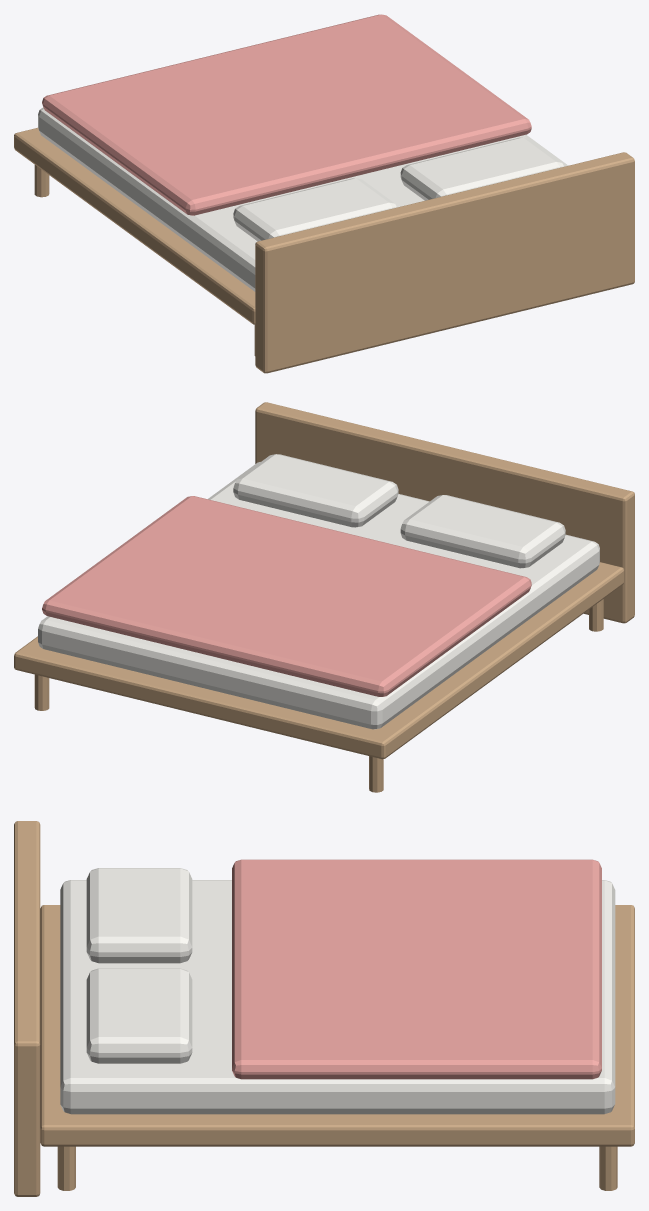
The model's file is bed.glb.
The picture shows the model from 3 angles, top to bottom: view 1: azimuth 30°, elevation 25°; view 2: azimuth 150°, elevation 25°; view 3: azimuth 270°, elevation 25°; orthographic projection. The views are drawn at different scales.
Visible parts, largest first — view 1: Bed; view 2: Bed; view 3: Bed.
Boxes of the visible parts, x1,y1,x2,y2 form: Bed: [14, 14, 634, 373]; Bed: [14, 402, 634, 792]; Bed: [14, 821, 634, 1196].
Size of the model in its own units: 4 by 1.3 by 4.7.
